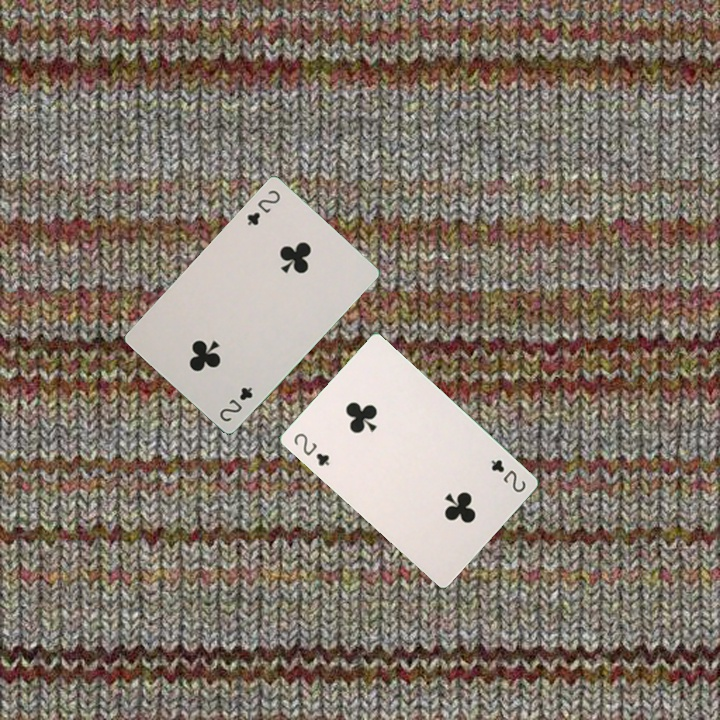2c: (289, 429, 332, 469), (243, 186, 283, 228), (215, 383, 255, 425), (487, 455, 528, 495)
